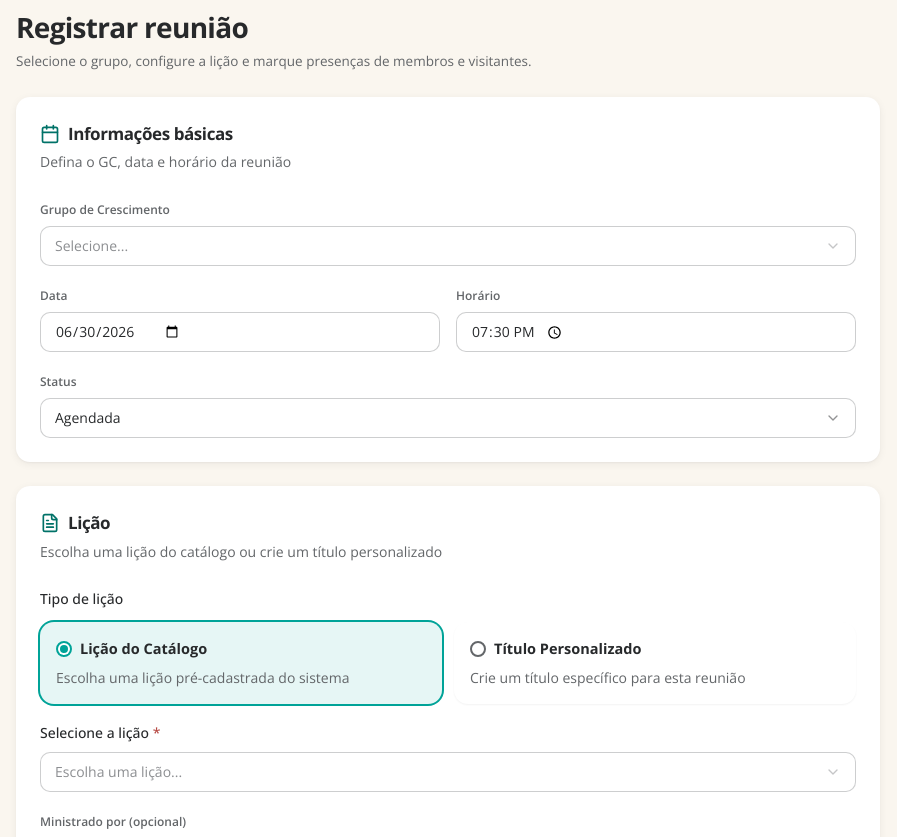
MeetingForm › exibe campo de título personalizado ao escolher lição custom
Click the button "Título Personalizado" at (568, 648), box [454, 622, 856, 704]
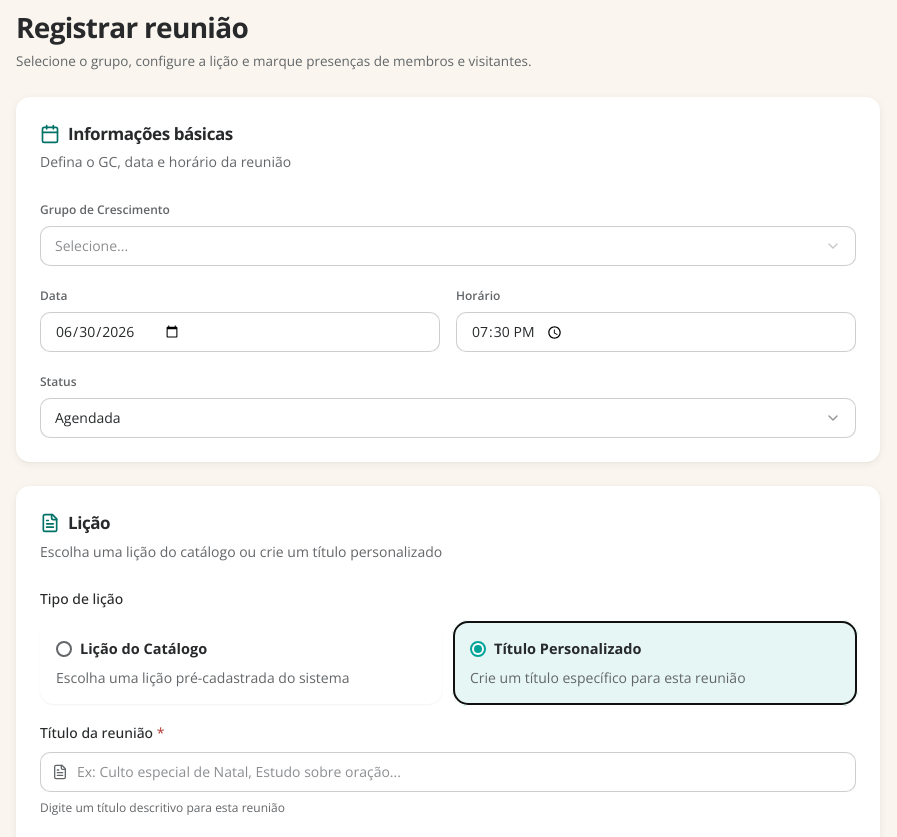
Result: the field with placeholder "Ex: Culto especial de Natal, Estudo sobre oração..." is shown at [40, 752, 856, 792]
